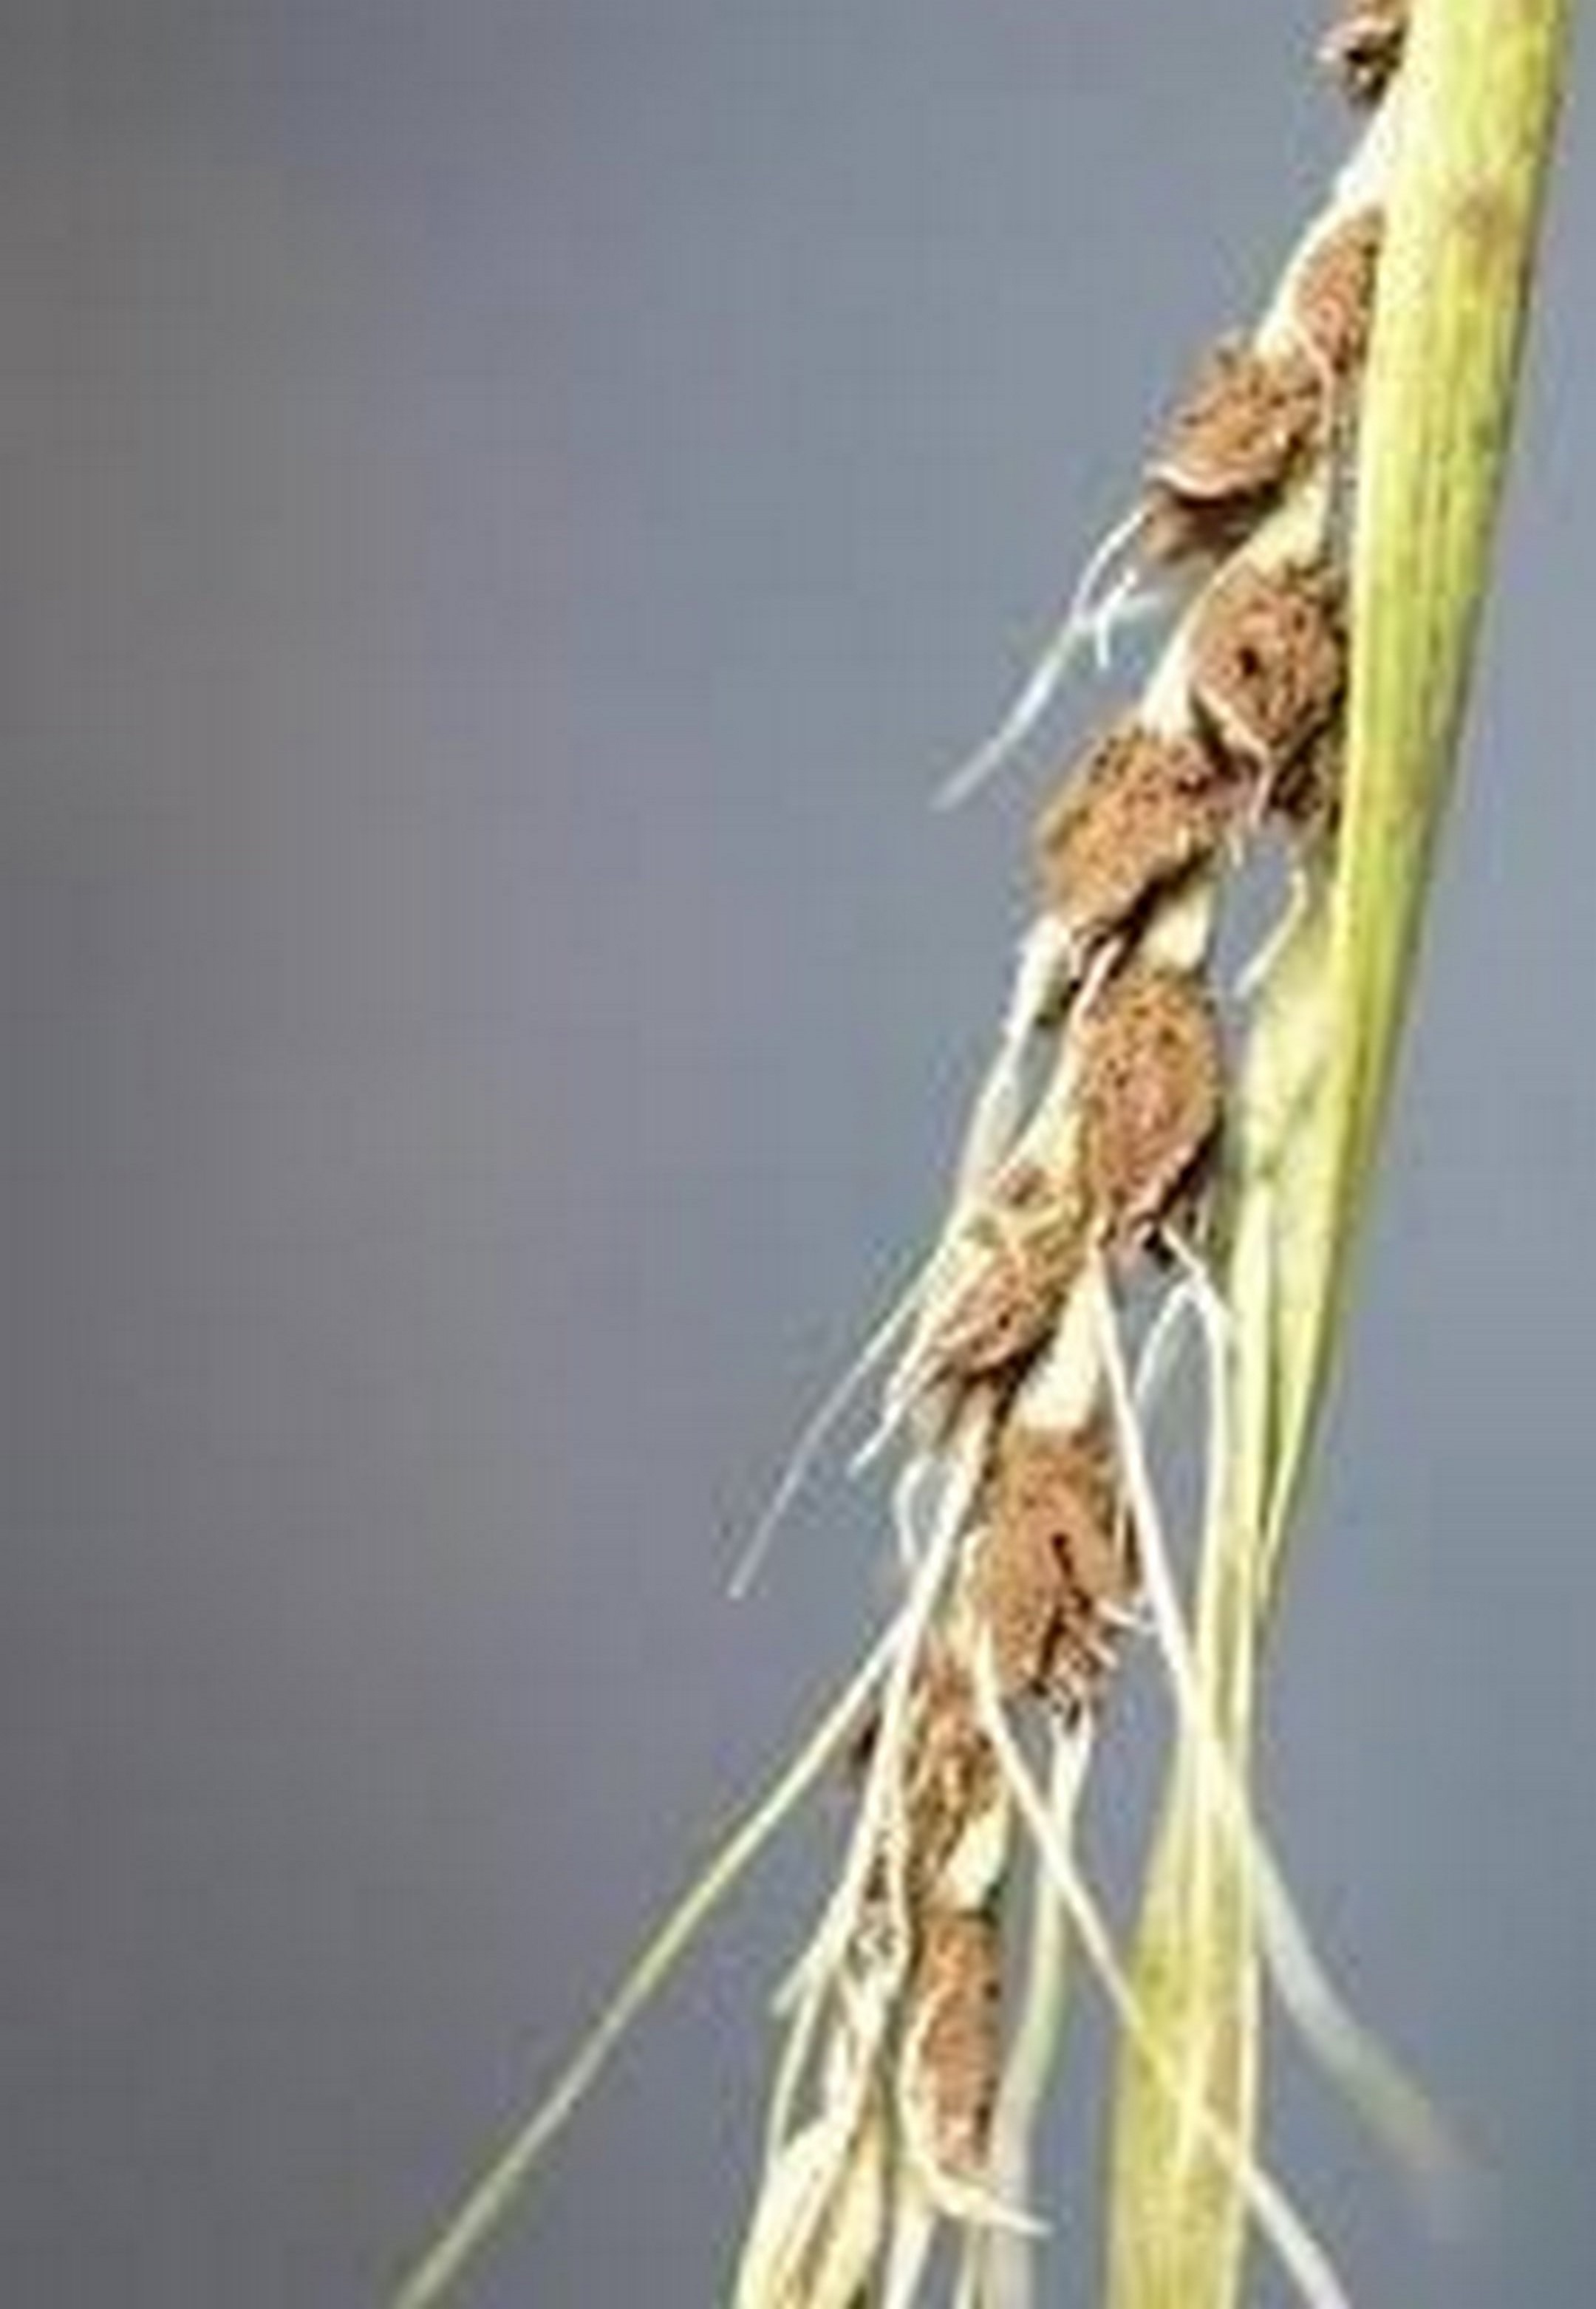Wheat Loose Smut: (679, 247, 1493, 2130)
